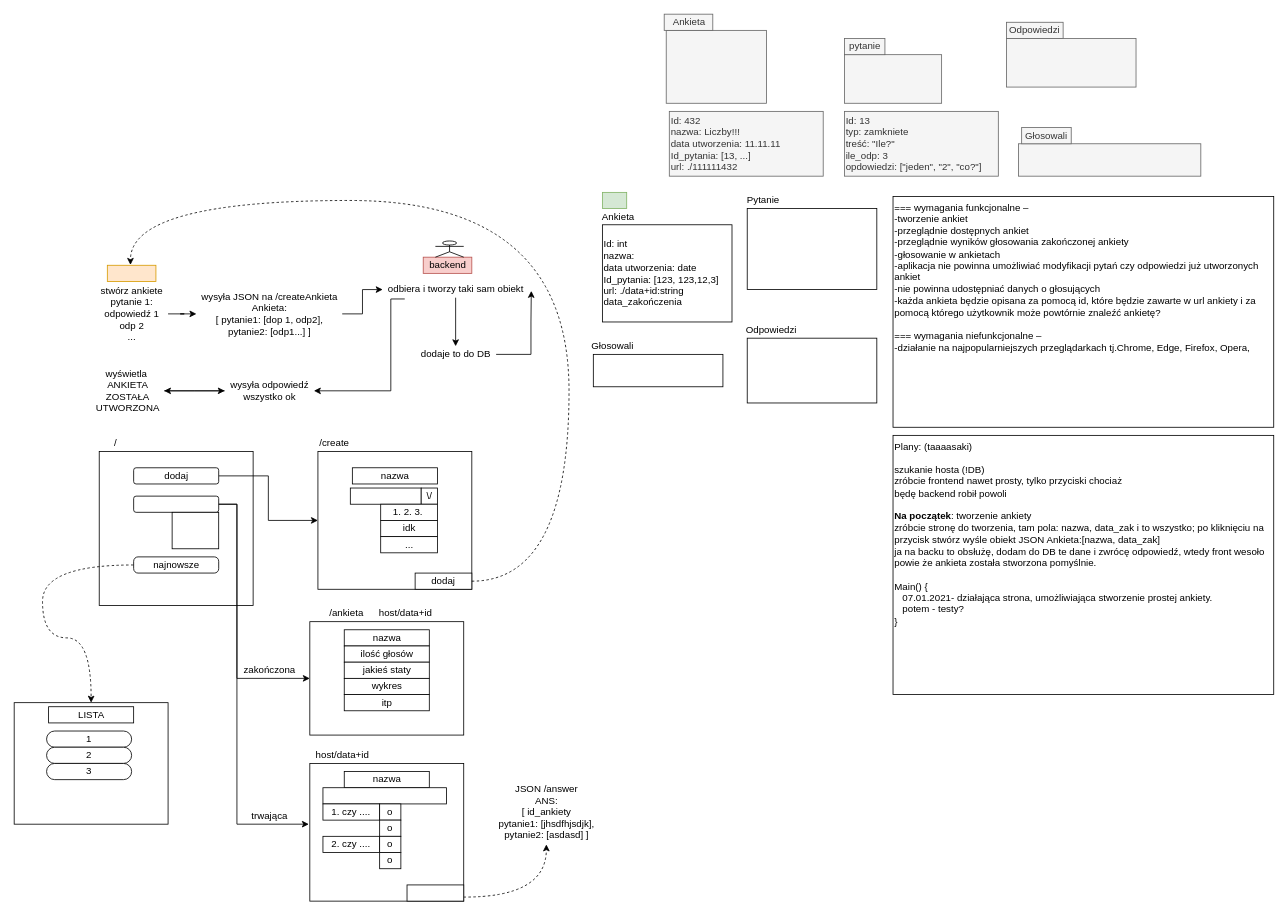
Image size: 1288x915. Some labels were removed from this diagram. The centre of each missing label's shape, as x and y in pixels:
"1. Ile? O jeden O 2 O co?" goes at (x=893, y=78).
"DB" goes at (x=614, y=200).
"dodaj pytanie" goes at (x=385, y=495).
"frontend" goes at (x=131, y=272).
"Id: int typ: string treść_pytania: odpowiedzi: [] ile_odp: Int" goes at (x=811, y=249).
"Id_ankiety: 432 Id_pytania:13 Liczba_głosów: 69" goes at (x=1071, y=62).
"Id_ankiety: Id_pytania: Liczba_głosów: Int" goes at (x=811, y=370).
"Klucz przeglądrki: HSD*IAIHNW#*(3 Ankieta: [432, ...]" goes at (x=1109, y=159).
"Klucz przeglądrki: int Ankieta: []" goes at (x=658, y=370).
"kod ankiety" goes at (x=195, y=530).
"Liczby!!! 1. Ile? O jeden O 2 O co?" goes at (x=716, y=66).
"otwórz" goes at (x=176, y=503).
"pytania" goes at (x=384, y=795).
"zagłosuj" goes at (x=435, y=892).
